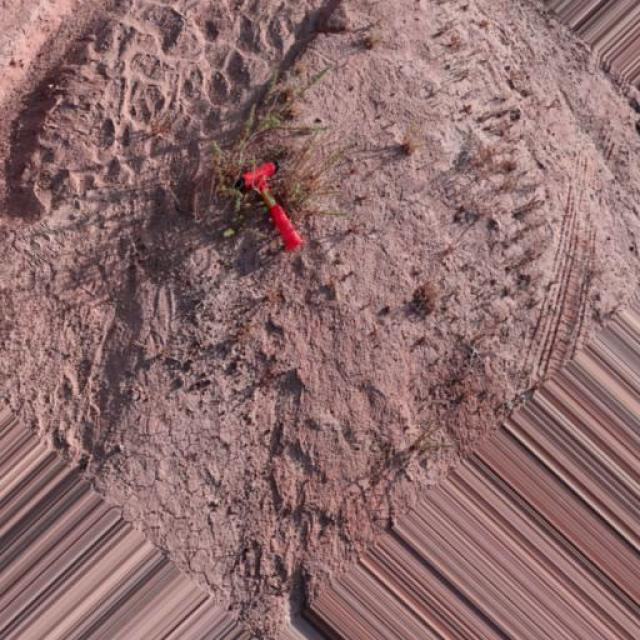mallet: (237, 159, 305, 251)
